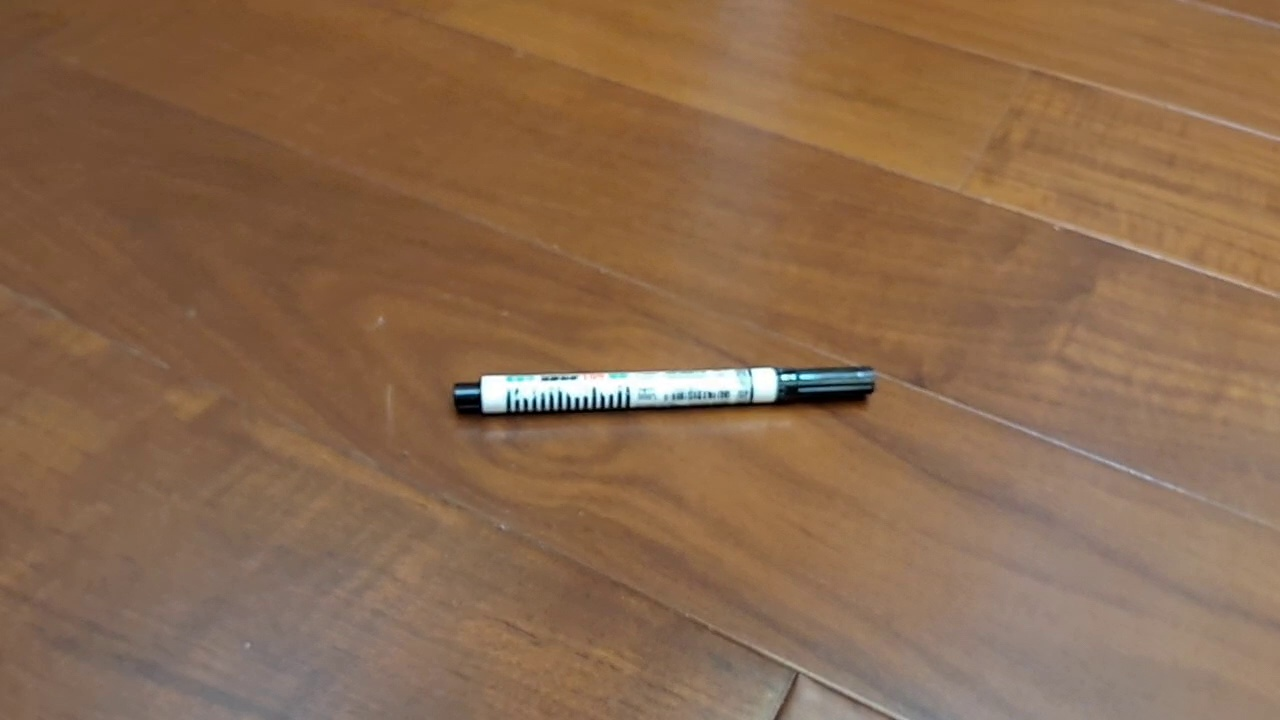pen: (451, 363, 877, 418)
